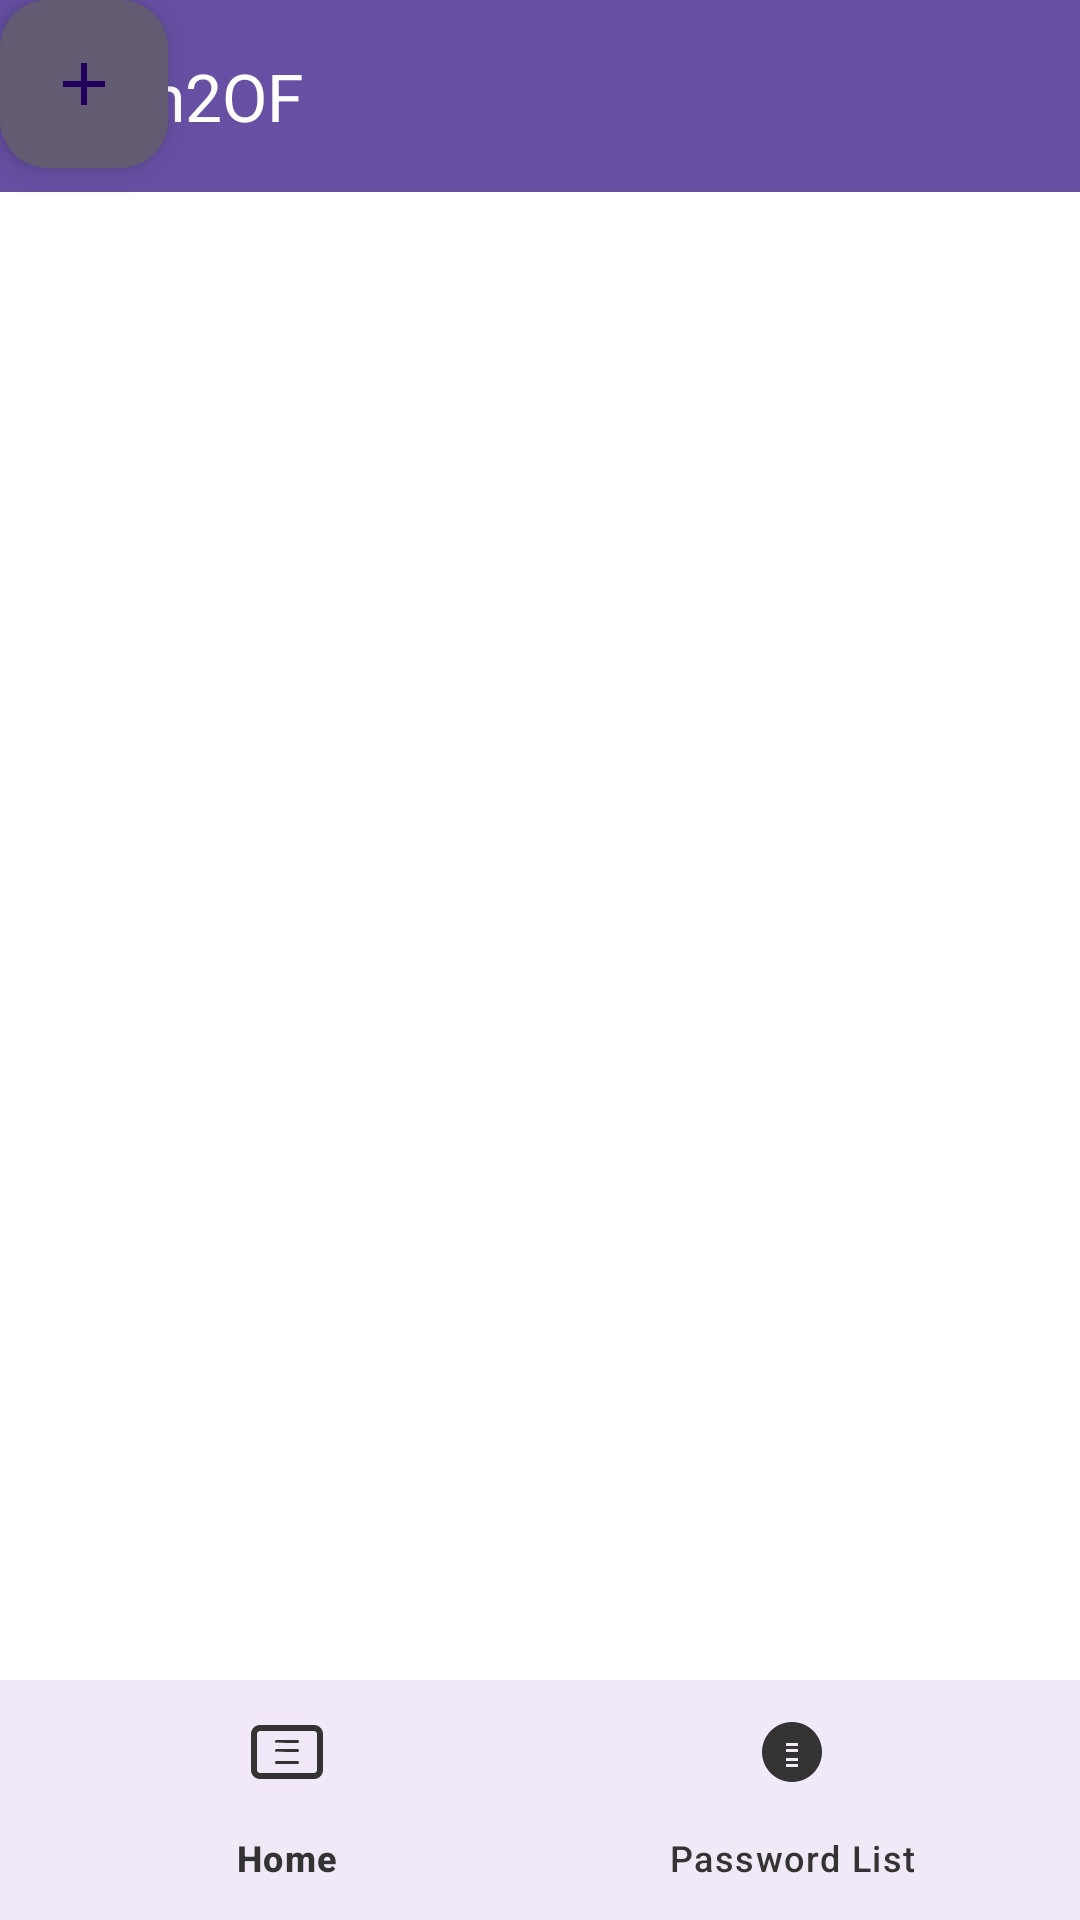

Icon bounding boxes for this 1080 × 1920 phone screenshot, format rect(x1, y1, x2, y2):
Add Password: rect(0, 0, 168, 168)
